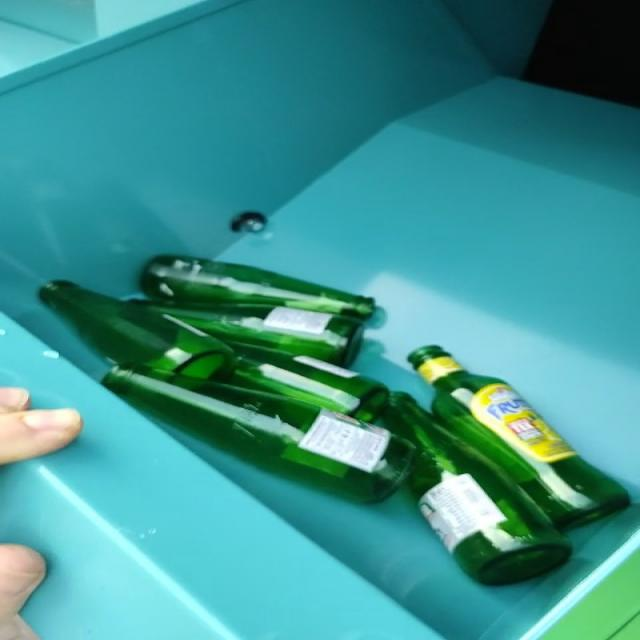glass: (41, 256, 631, 585)
